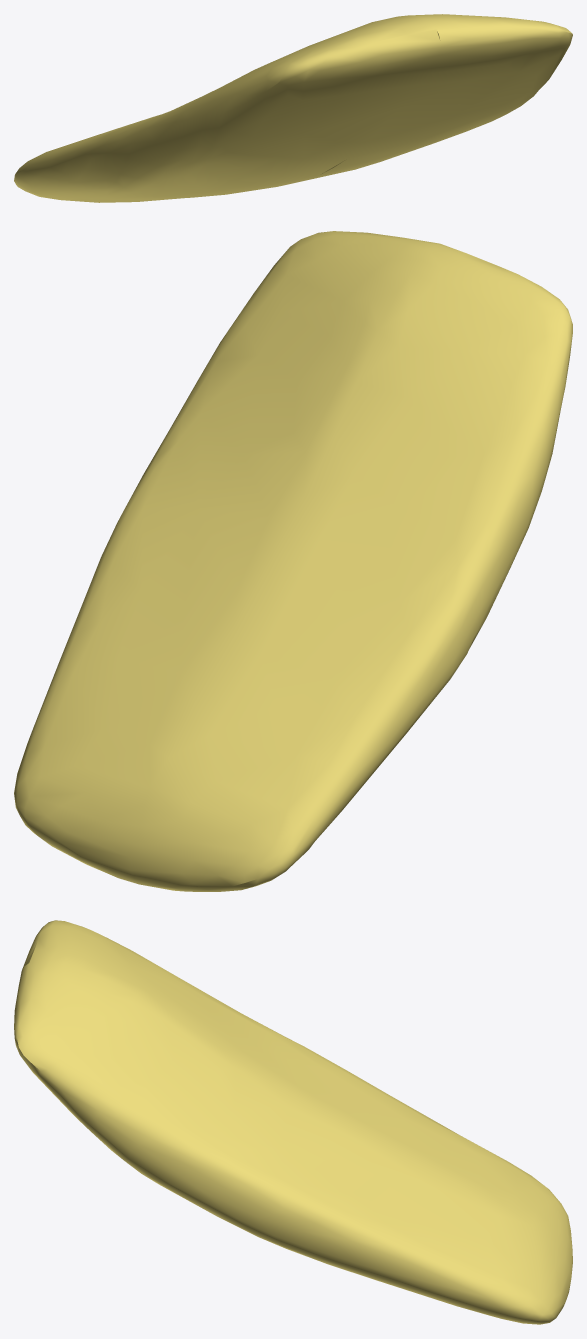
File: lingula-of-cerebellum.glb
The picture shows the model from 3 angles, top to bottom: view 1: azimuth 30°, elevation 25°; view 2: azimuth 150°, elevation 25°; view 3: azimuth 270°, elevation 25°; orthographic projection. The views are drawn at different scales.
Parts seen in each view (by area): view 1: Lingula of cerebellum; view 2: Lingula of cerebellum; view 3: Lingula of cerebellum.
Boxes of the visible parts, left/top/right/bottom form: Lingula of cerebellum: left=14, top=14, right=572, bottom=202; Lingula of cerebellum: left=14, top=231, right=572, bottom=891; Lingula of cerebellum: left=14, top=920, right=572, bottom=1324.
Bounding box in the file's own units: 0.0102 × 0.0108 × 0.0161.
